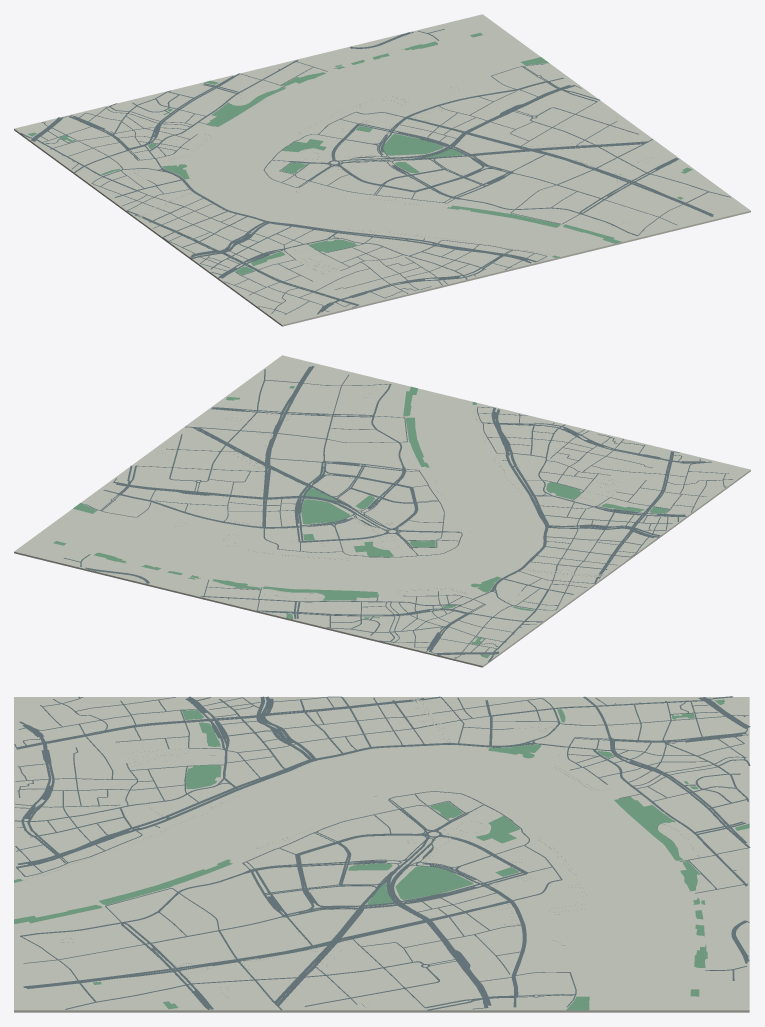
Rendered from terrain.glb.
The picture shows the model from 3 angles, top to bottom: view 1: azimuth 30°, elevation 25°; view 2: azimuth 150°, elevation 25°; view 3: azimuth 270°, elevation 25°; orthographic projection. The views are drawn at different scales.
Visible parts, largest first — view 1: terrain-base, street-network, riverside-parks; view 2: terrain-base, street-network, riverside-parks; view 3: terrain-base, street-network, riverside-parks.
Boxes of the visible parts, box(x1,y1,x2,y2) form: terrain-base: box(14, 14, 750, 326); street-network: box(19, 29, 730, 314); riverside-parks: box(28, 32, 692, 274); terrain-base: box(14, 355, 750, 667); street-network: box(63, 366, 732, 661); riverside-parks: box(53, 386, 668, 657); terrain-base: box(14, 697, 749, 1012); street-network: box(14, 696, 750, 1010); riverside-parks: box(14, 699, 749, 1010).
Bounding box in the file's own units: 3510 × 13 × 3476.
